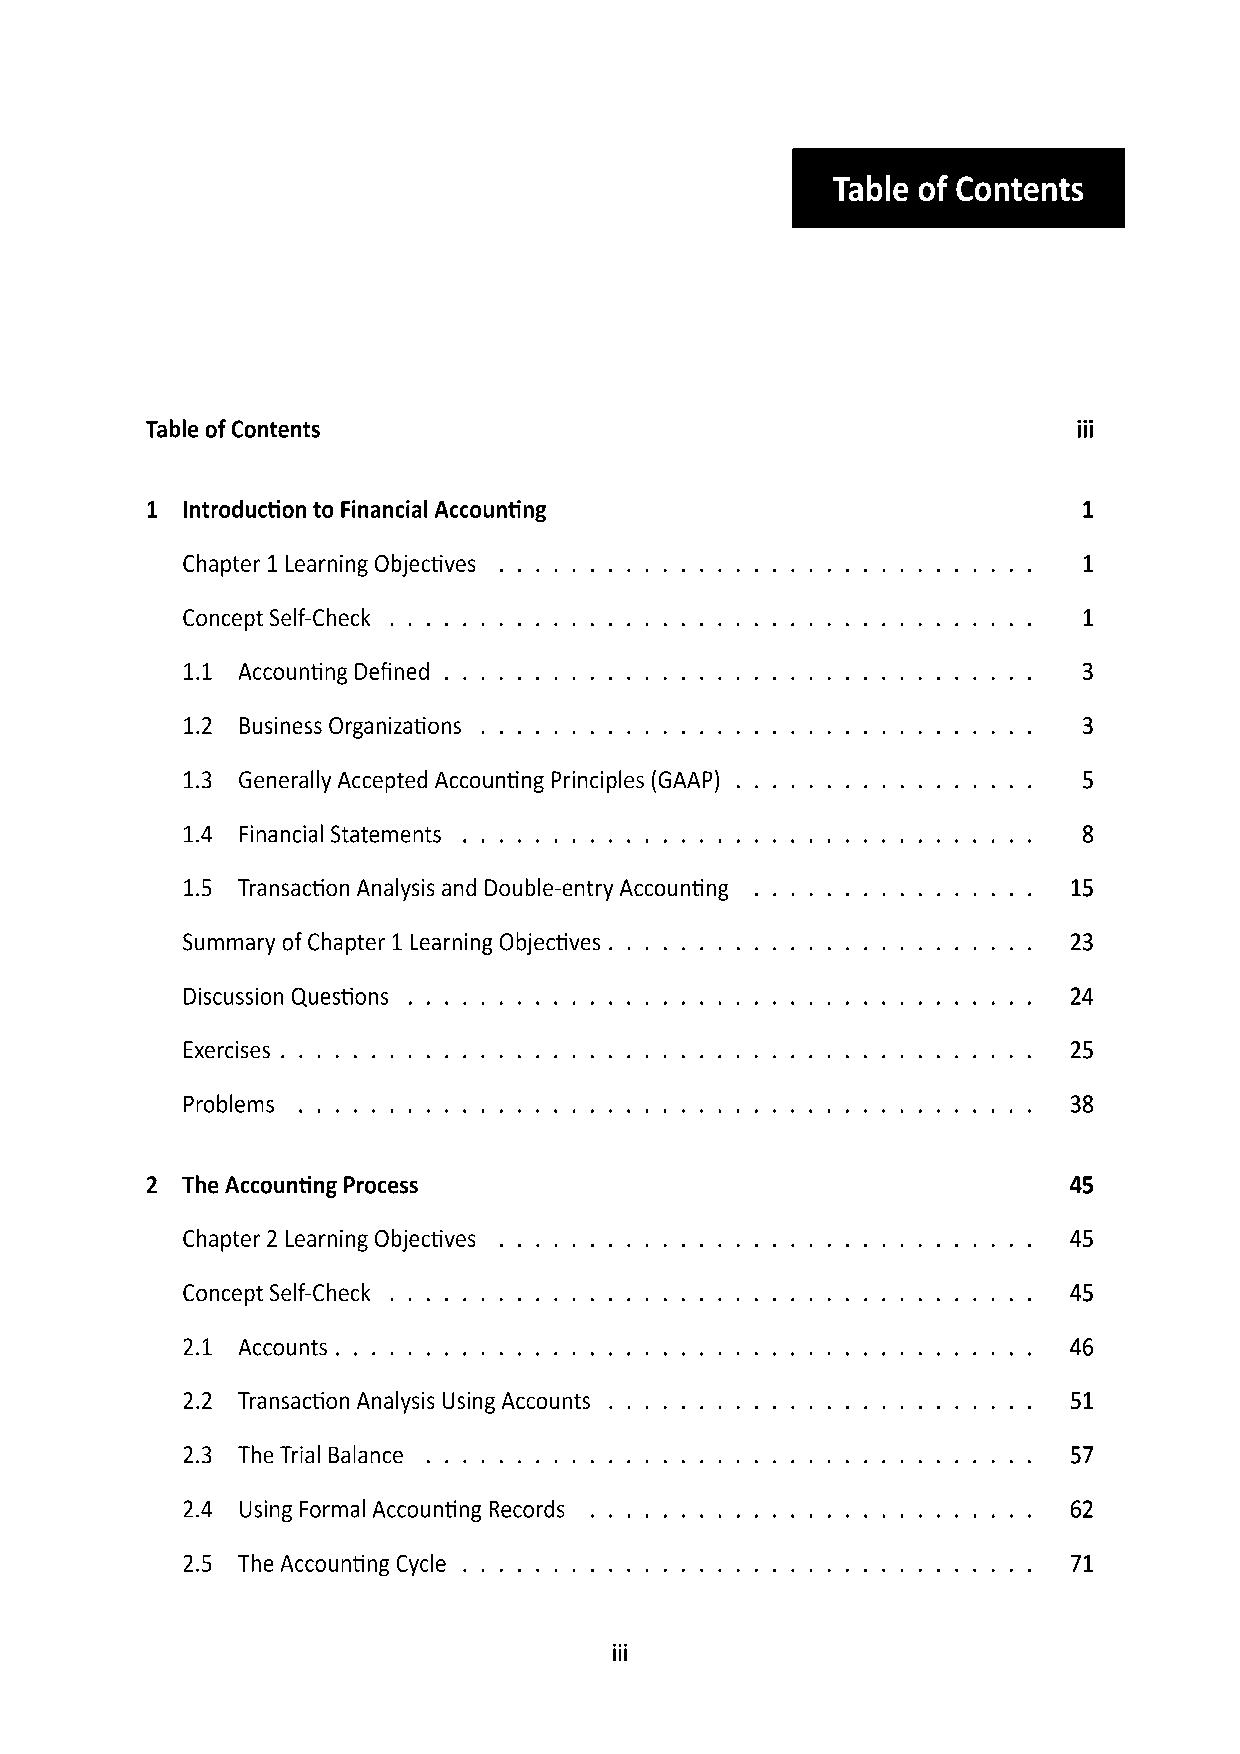TOC_chapter: (180, 874, 730, 905), (180, 766, 719, 793), (180, 929, 603, 956), (144, 497, 548, 523), (178, 1389, 592, 1412), (181, 1496, 564, 1520), (177, 550, 478, 578), (180, 711, 464, 739), (178, 656, 433, 686), (180, 820, 447, 848), (183, 1228, 476, 1253), (140, 1172, 421, 1197), (181, 1551, 446, 1577), (180, 984, 395, 1009), (180, 1282, 370, 1308), (178, 1443, 403, 1465), (142, 413, 323, 442), (180, 604, 374, 629), (181, 1334, 329, 1359), (178, 1092, 276, 1117), (181, 1037, 271, 1060)
TOC_pagenumber: (1066, 929, 1100, 956), (1066, 1092, 1095, 1117), (1067, 1496, 1096, 1520), (1068, 1035, 1095, 1060), (1068, 982, 1096, 1007), (1068, 1224, 1096, 1248), (1067, 876, 1099, 896), (1067, 1335, 1096, 1357), (1068, 1279, 1094, 1303), (1068, 1443, 1094, 1465), (1070, 1388, 1094, 1410), (1070, 1173, 1095, 1194), (1068, 1553, 1092, 1573), (1076, 416, 1096, 439), (1079, 765, 1096, 790), (1079, 659, 1096, 682), (1082, 821, 1096, 847), (1080, 607, 1096, 629), (1078, 717, 1096, 735), (1080, 552, 1094, 576), (1082, 494, 1092, 519)
chapter: (829, 170, 1083, 207)
content_pagenumber: (607, 1636, 633, 1664)
